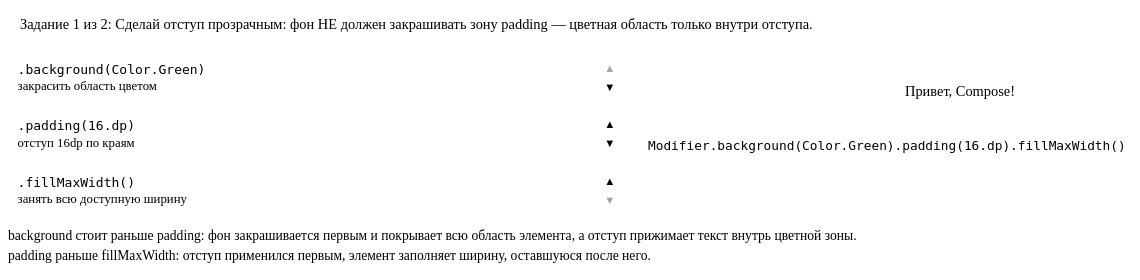
Test: moving padding above background completes task 1 and flips the preview nesting
Click the button named "выше: .padding(16.dp)": (610, 125) [597,117,622,133]
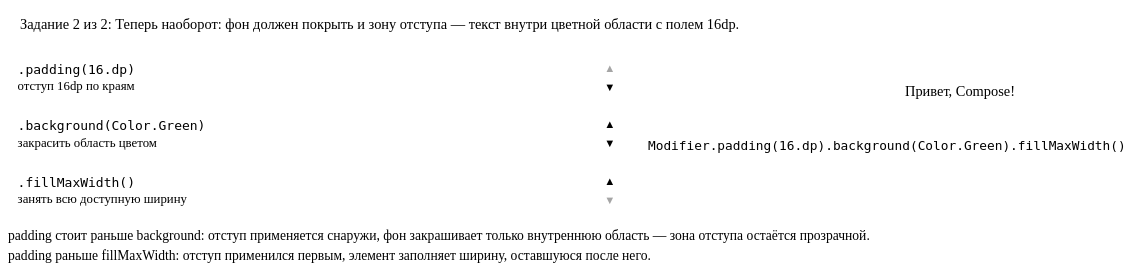
Check: the element with class "mchain-l-bg" is shown, box [905,83,1015,99]
Check: the text "Задание 2 из 2" is shown, box [20,16,739,32]
Check: the text "padding стоит раньше background" is shown, box [8,228,870,243]
